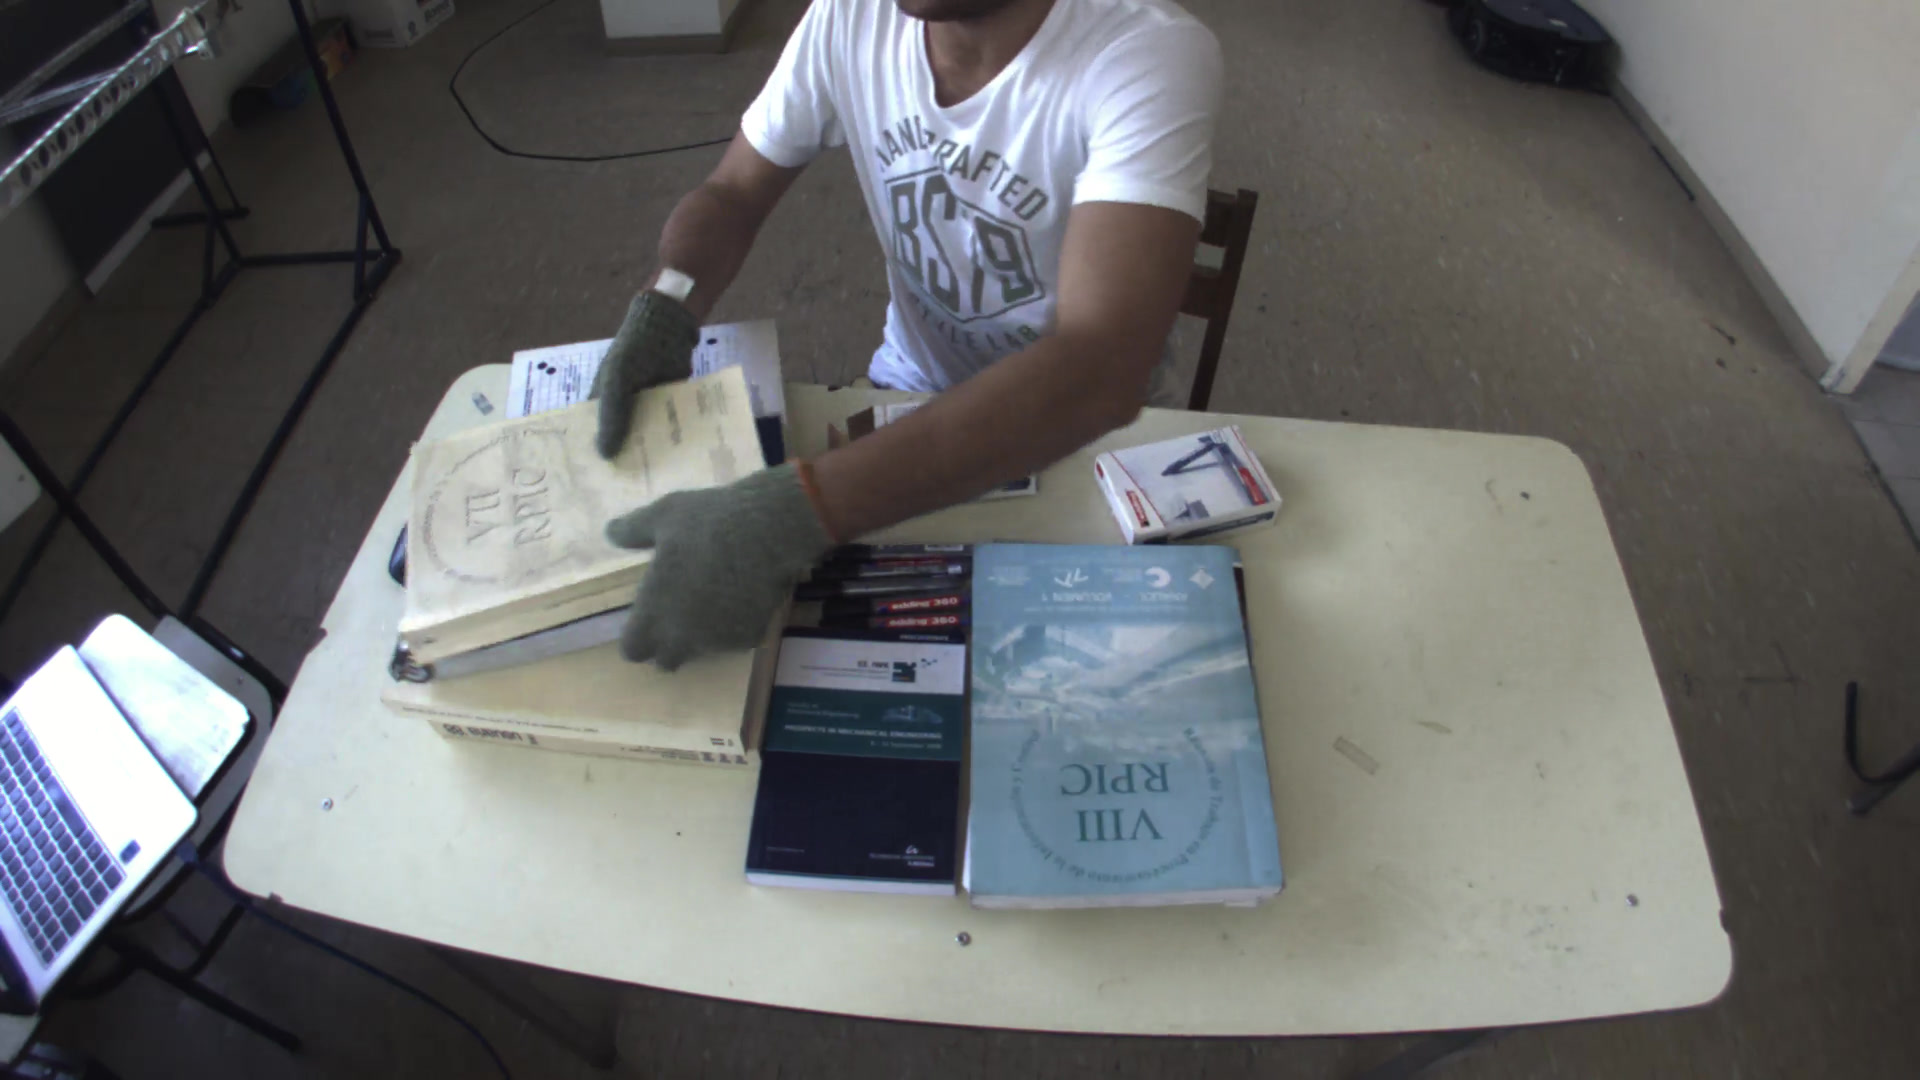hand: (589, 472, 808, 675), (580, 285, 700, 450)
